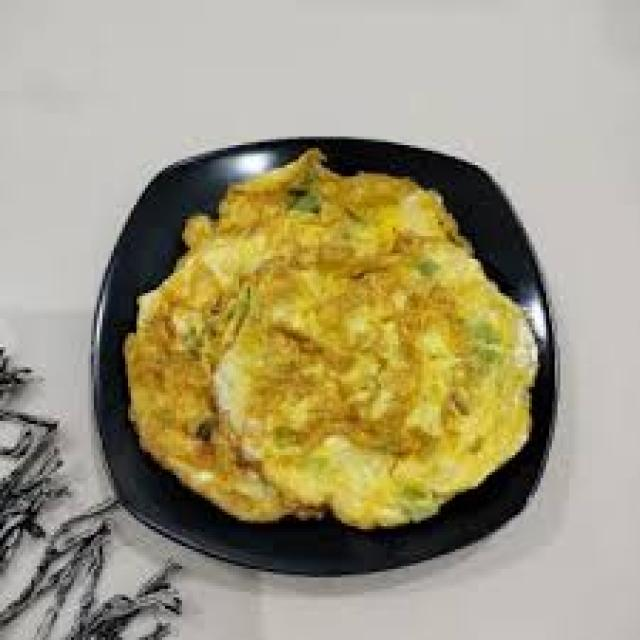telur_dadar: (122, 154, 536, 524)
